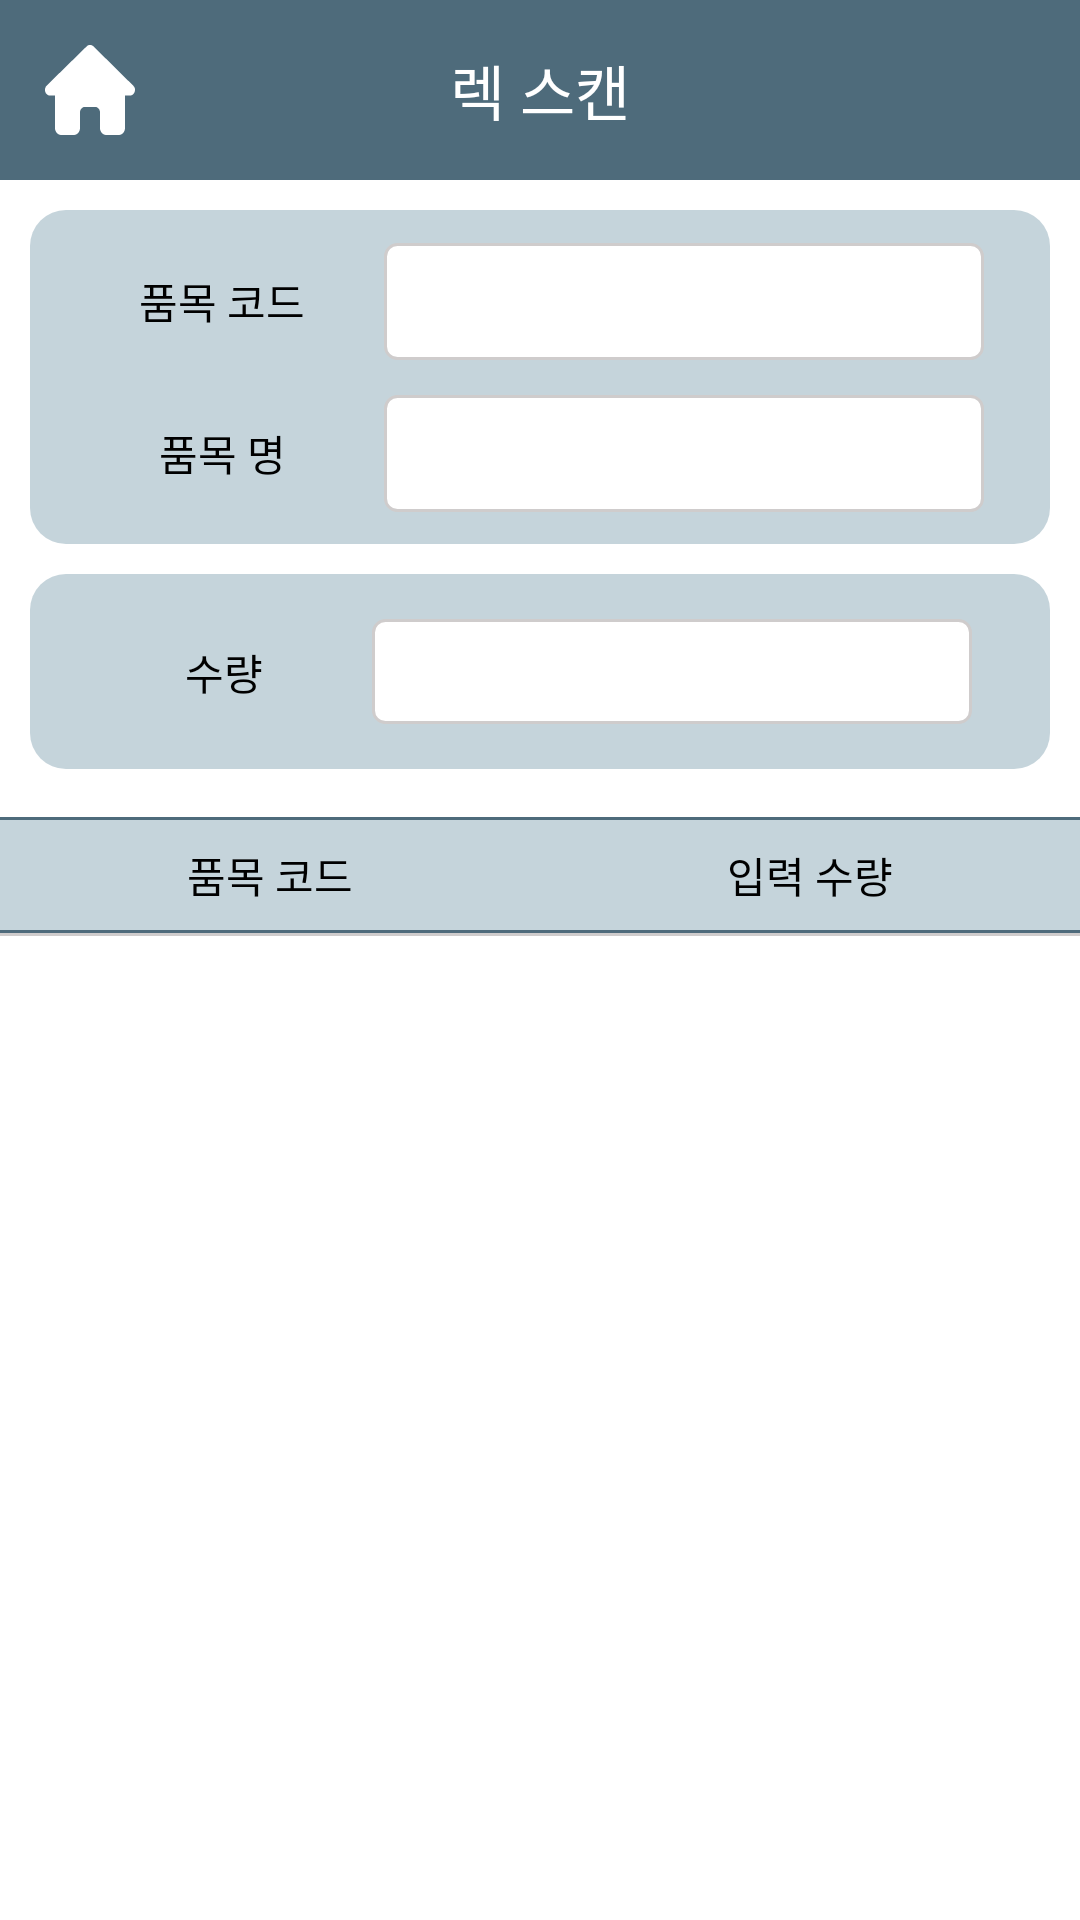

Named icons in this screenshot (1080×1920) and their centers, point (x, y):
house: point (90, 90)
